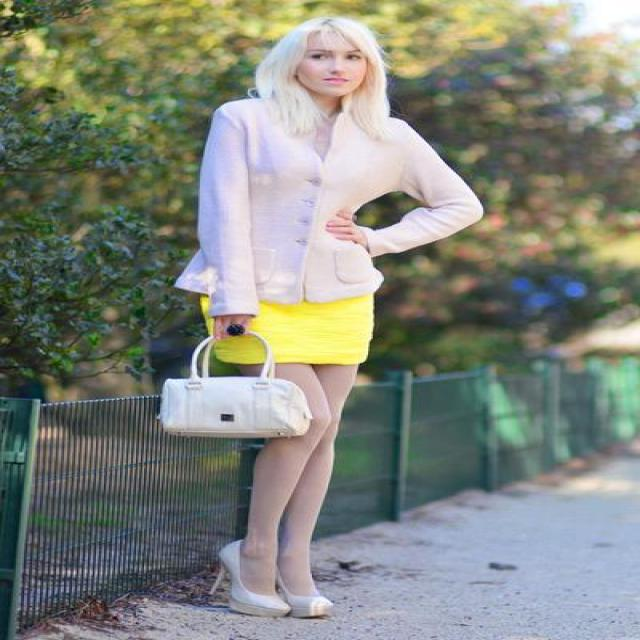bag: (157, 334, 310, 437)
jacket: (174, 98, 482, 315)
shoe: (213, 534, 331, 614)
skirt: (213, 295, 373, 370)
